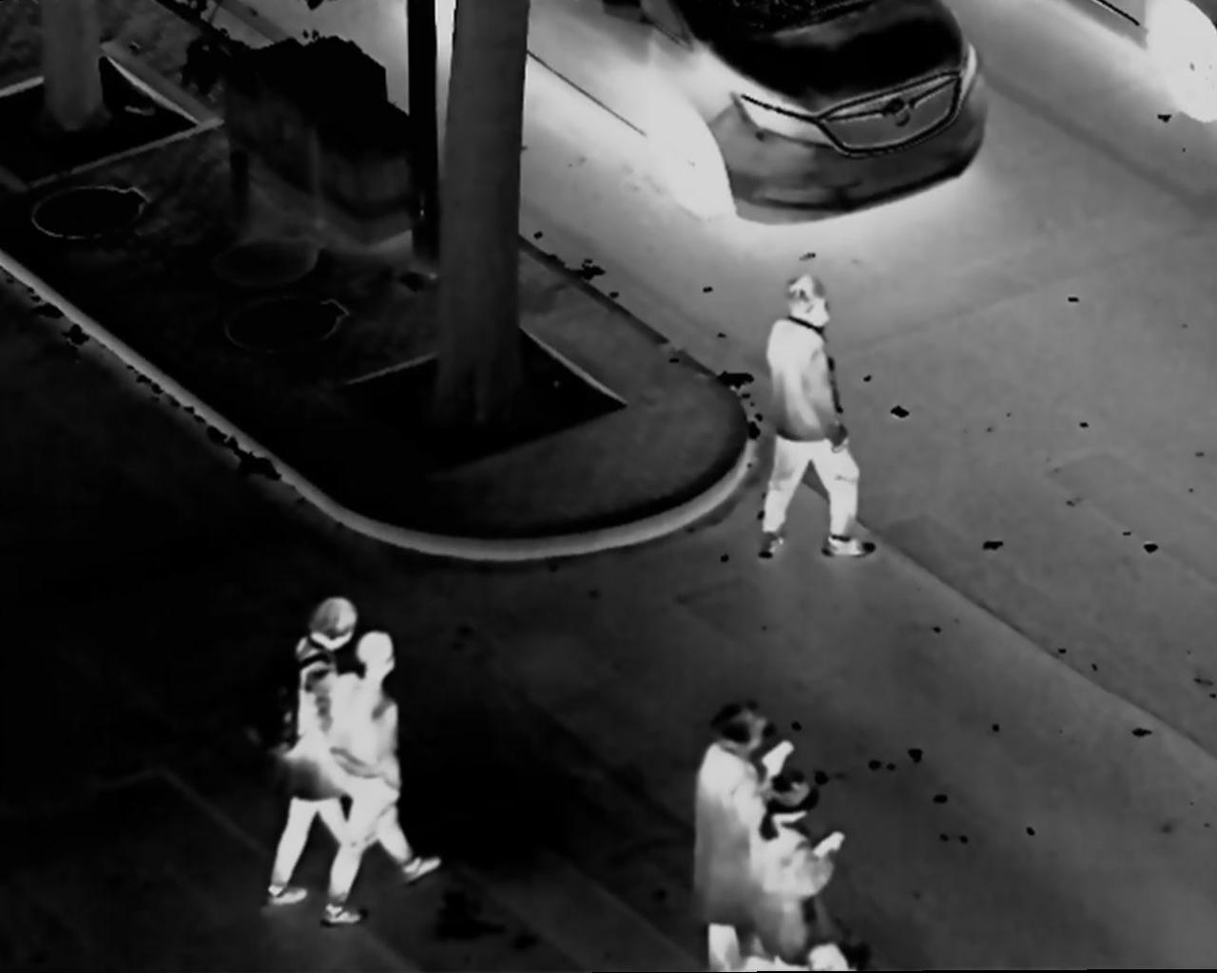person: (754, 270, 890, 559), (338, 633, 440, 922), (273, 597, 355, 894), (752, 773, 860, 973), (690, 698, 772, 939)
